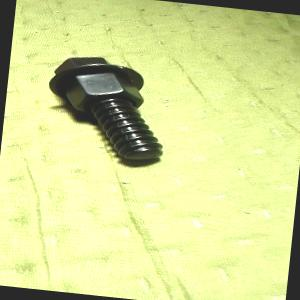parafuso: (39, 51, 172, 163)
